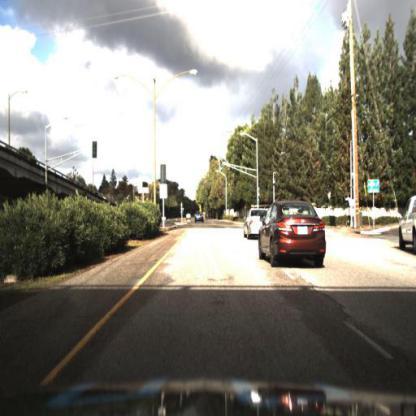car: (259, 201, 324, 265), (398, 194, 416, 257), (243, 206, 268, 242), (193, 210, 207, 226)
trafficLight-Green: (217, 153, 225, 181), (270, 171, 279, 189), (219, 157, 223, 173)
